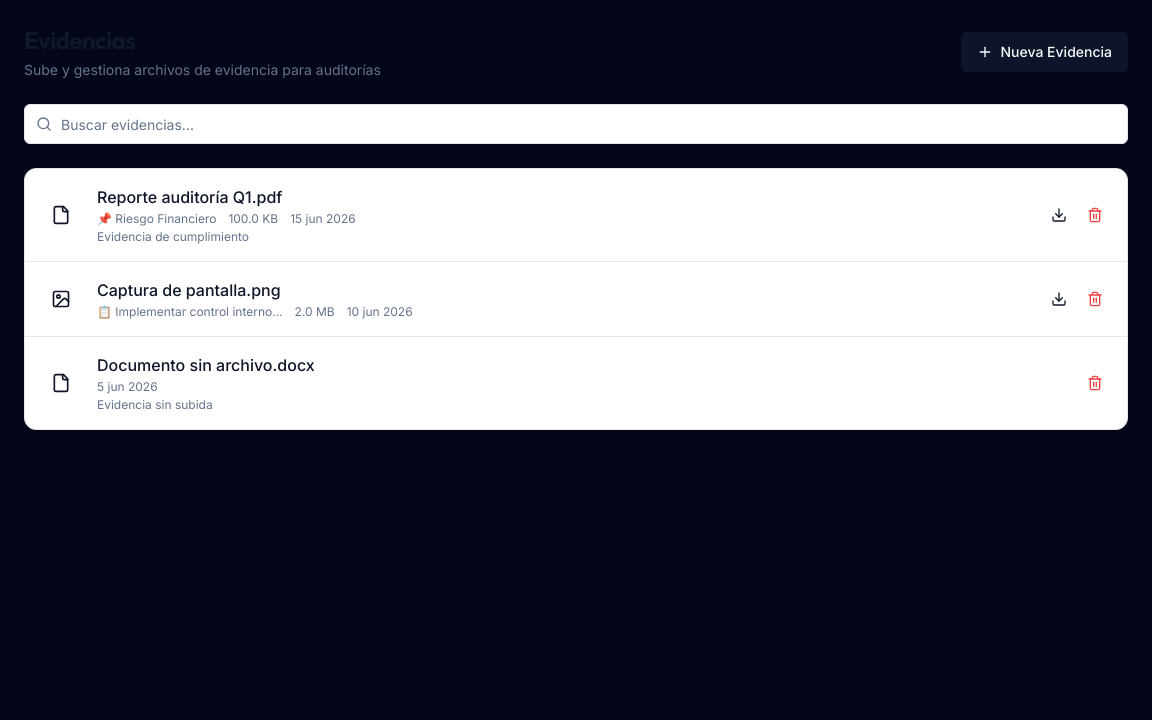
Test: EvidencesPage › Create dialog › should open create dialog when clicking 'Nueva Evidencia'
Step 1. Click the button "Nueva Evidencia" → (1044, 52), box [960, 32, 1128, 72]
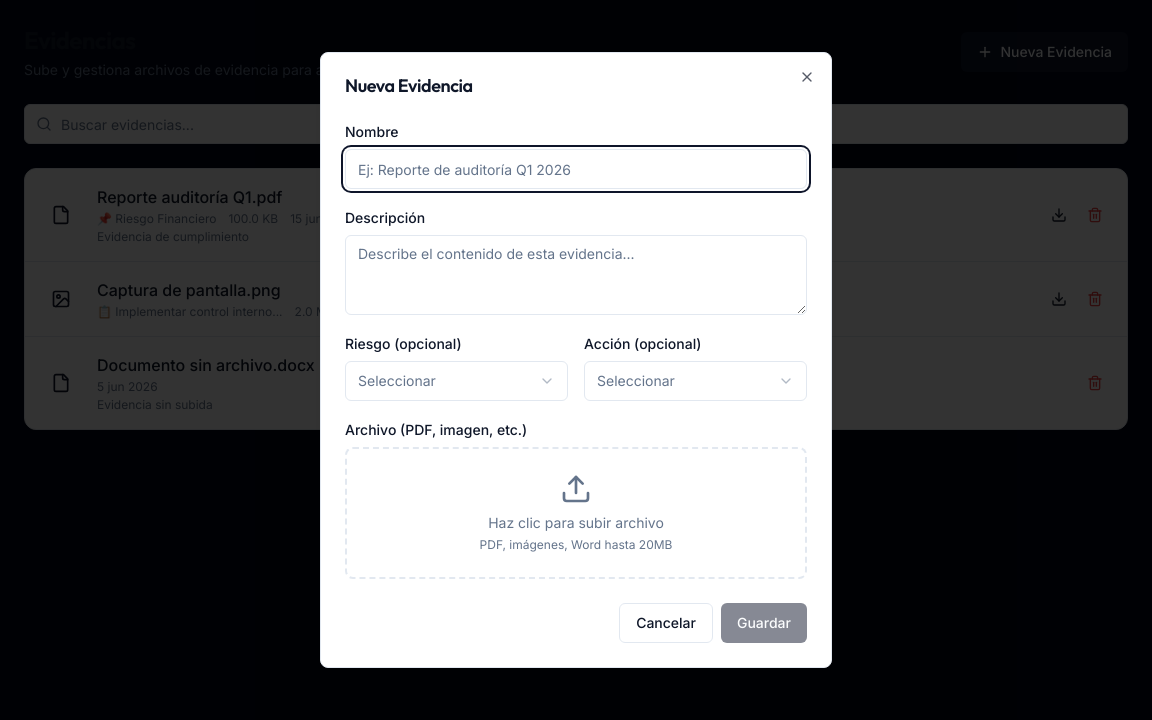
Expected: the field with placeholder "Ej: Reporte de auditoría Q1 2026" is shown, [345, 149, 807, 189]
Expected: the text "Haz clic para subir archivo" is shown, [488, 514, 664, 531]
